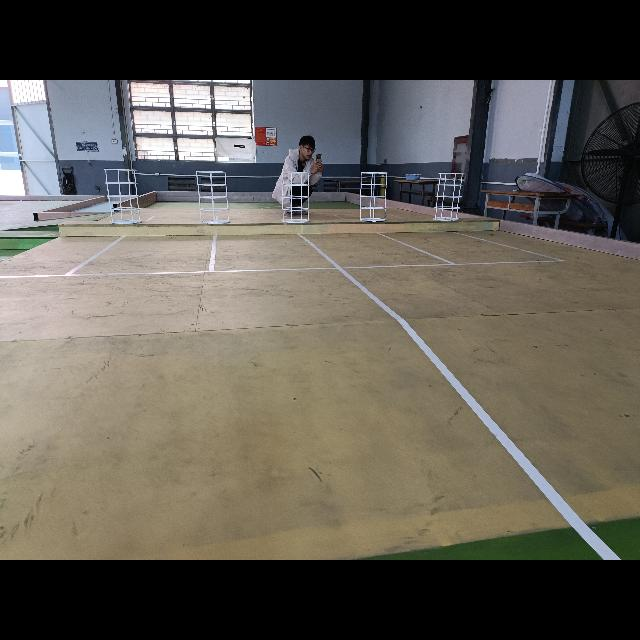S: (104, 167, 144, 227), (193, 168, 231, 226), (280, 172, 312, 224), (360, 170, 390, 222), (434, 172, 464, 224)
